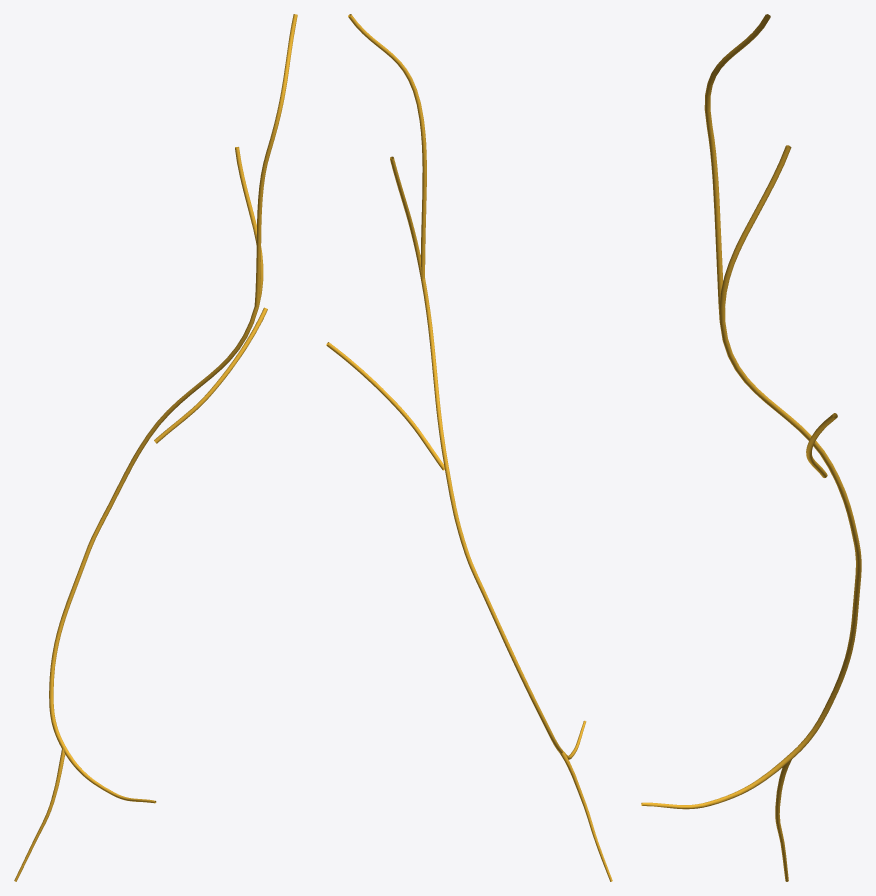
The model's file is nervoso-nerve-to-quadratus-femoris-muscle-r.glb.
3 renders of one model, left to right at view 1: azimuth 30°, elevation 25°; view 2: azimuth 150°, elevation 25°; view 3: azimuth 270°, elevation 25°, orthographic. The views are drawn at different scales.
Visible parts, largest first — view 1: Nerve to quadratus femoris muscle.r; view 2: Nerve to quadratus femoris muscle.r; view 3: Nerve to quadratus femoris muscle.r.
Part boxes in pixels (left/top/right/bottom): Nerve to quadratus femoris muscle.r: left=14, top=14, right=297, bottom=881; Nerve to quadratus femoris muscle.r: left=326, top=14, right=612, bottom=881; Nerve to quadratus femoris muscle.r: left=641, top=14, right=861, bottom=881.
Size of the model in its own units: 0.0702 by 0.1965 by 0.0378.
